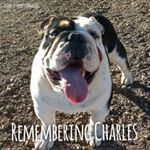puppy: (27, 11, 113, 116)
